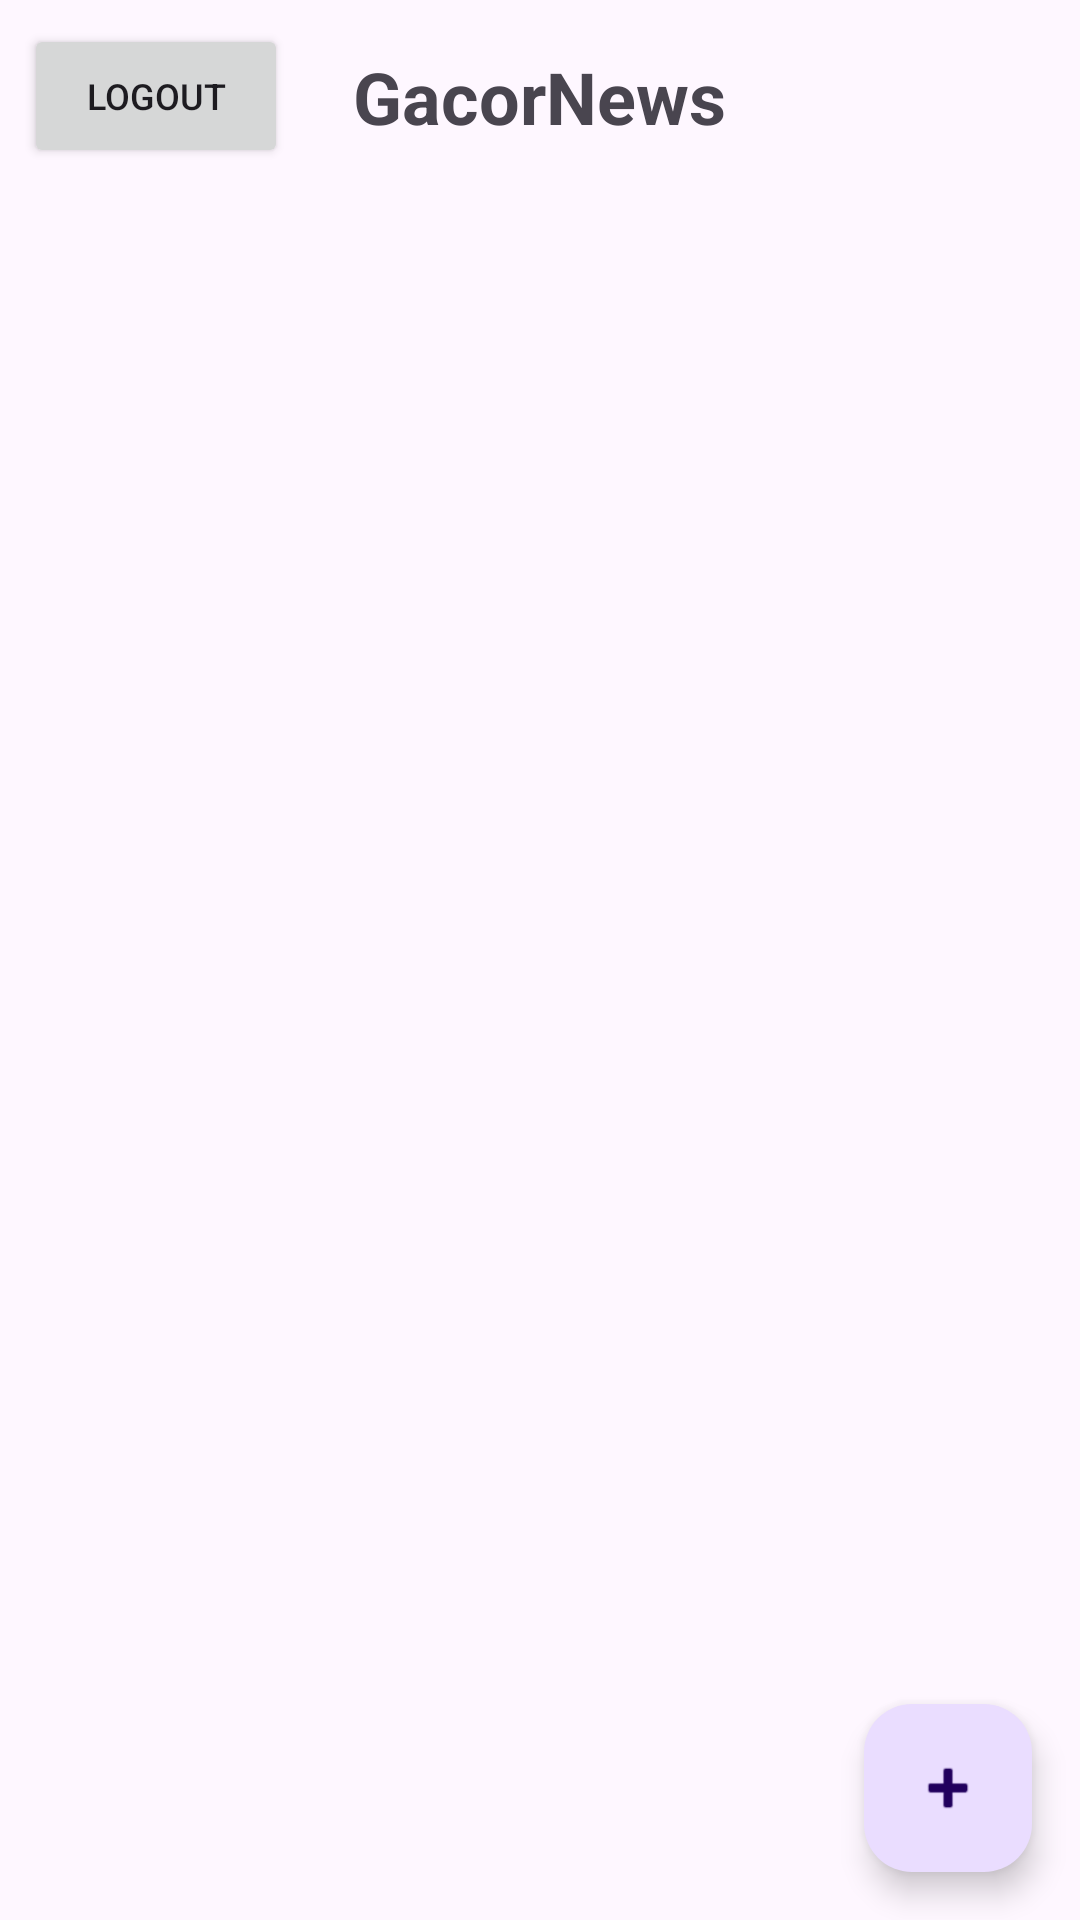

Icon click points for this 1080 × 1920 phone screenshot, format [x,y]:
Add News: [948,1788]
